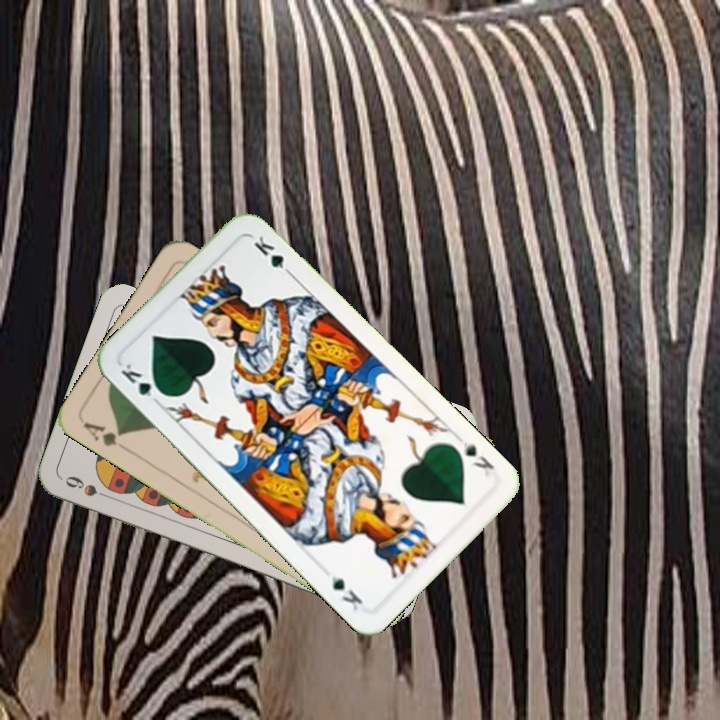GA: (78, 417, 133, 455)
GK: (116, 359, 168, 408), (454, 433, 497, 478)
S9: (61, 472, 117, 503)
